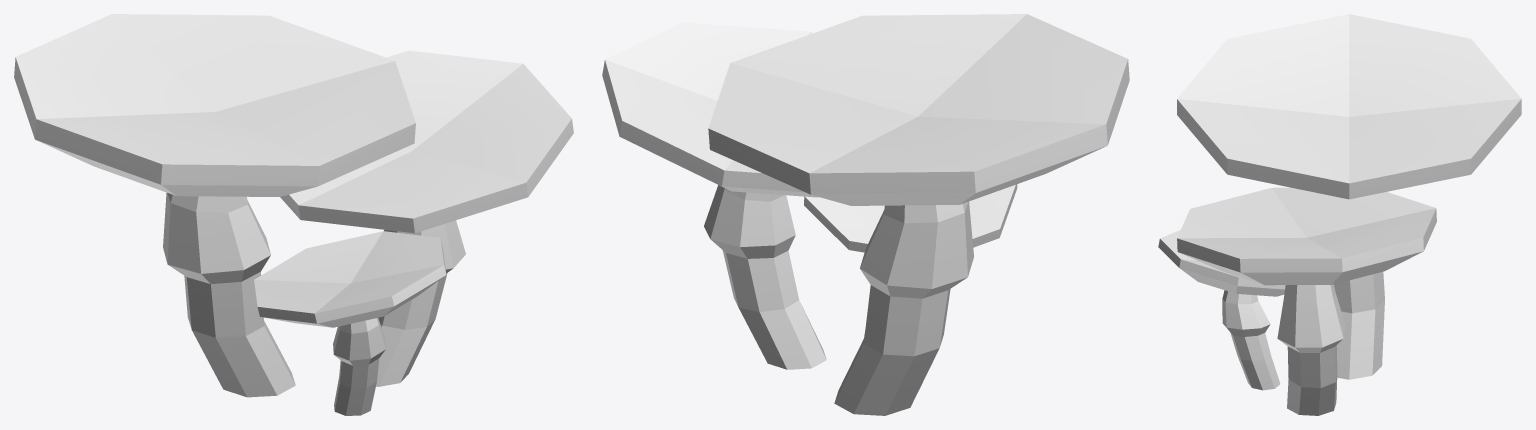
The model's file is Mushroom_flat_group_white.fbx.
3 renders of one model, left to right at view 1: azimuth 30°, elevation 25°; view 2: azimuth 150°, elevation 25°; view 3: azimuth 270°, elevation 25°, orthographic. The views are drawn at different scales.
Parts seen in each view (by area): view 1: Mushroom_flat_group_white; view 2: Mushroom_flat_group_white; view 3: Mushroom_flat_group_white.
Boxes of the visible parts, x1,y1,x2,y2 form: Mushroom_flat_group_white: (14, 14, 573, 415); Mushroom_flat_group_white: (602, 14, 1129, 415); Mushroom_flat_group_white: (1158, 14, 1521, 415).
Bounding box in the file's own units: 0.5273 × 0.3274 × 0.411.
